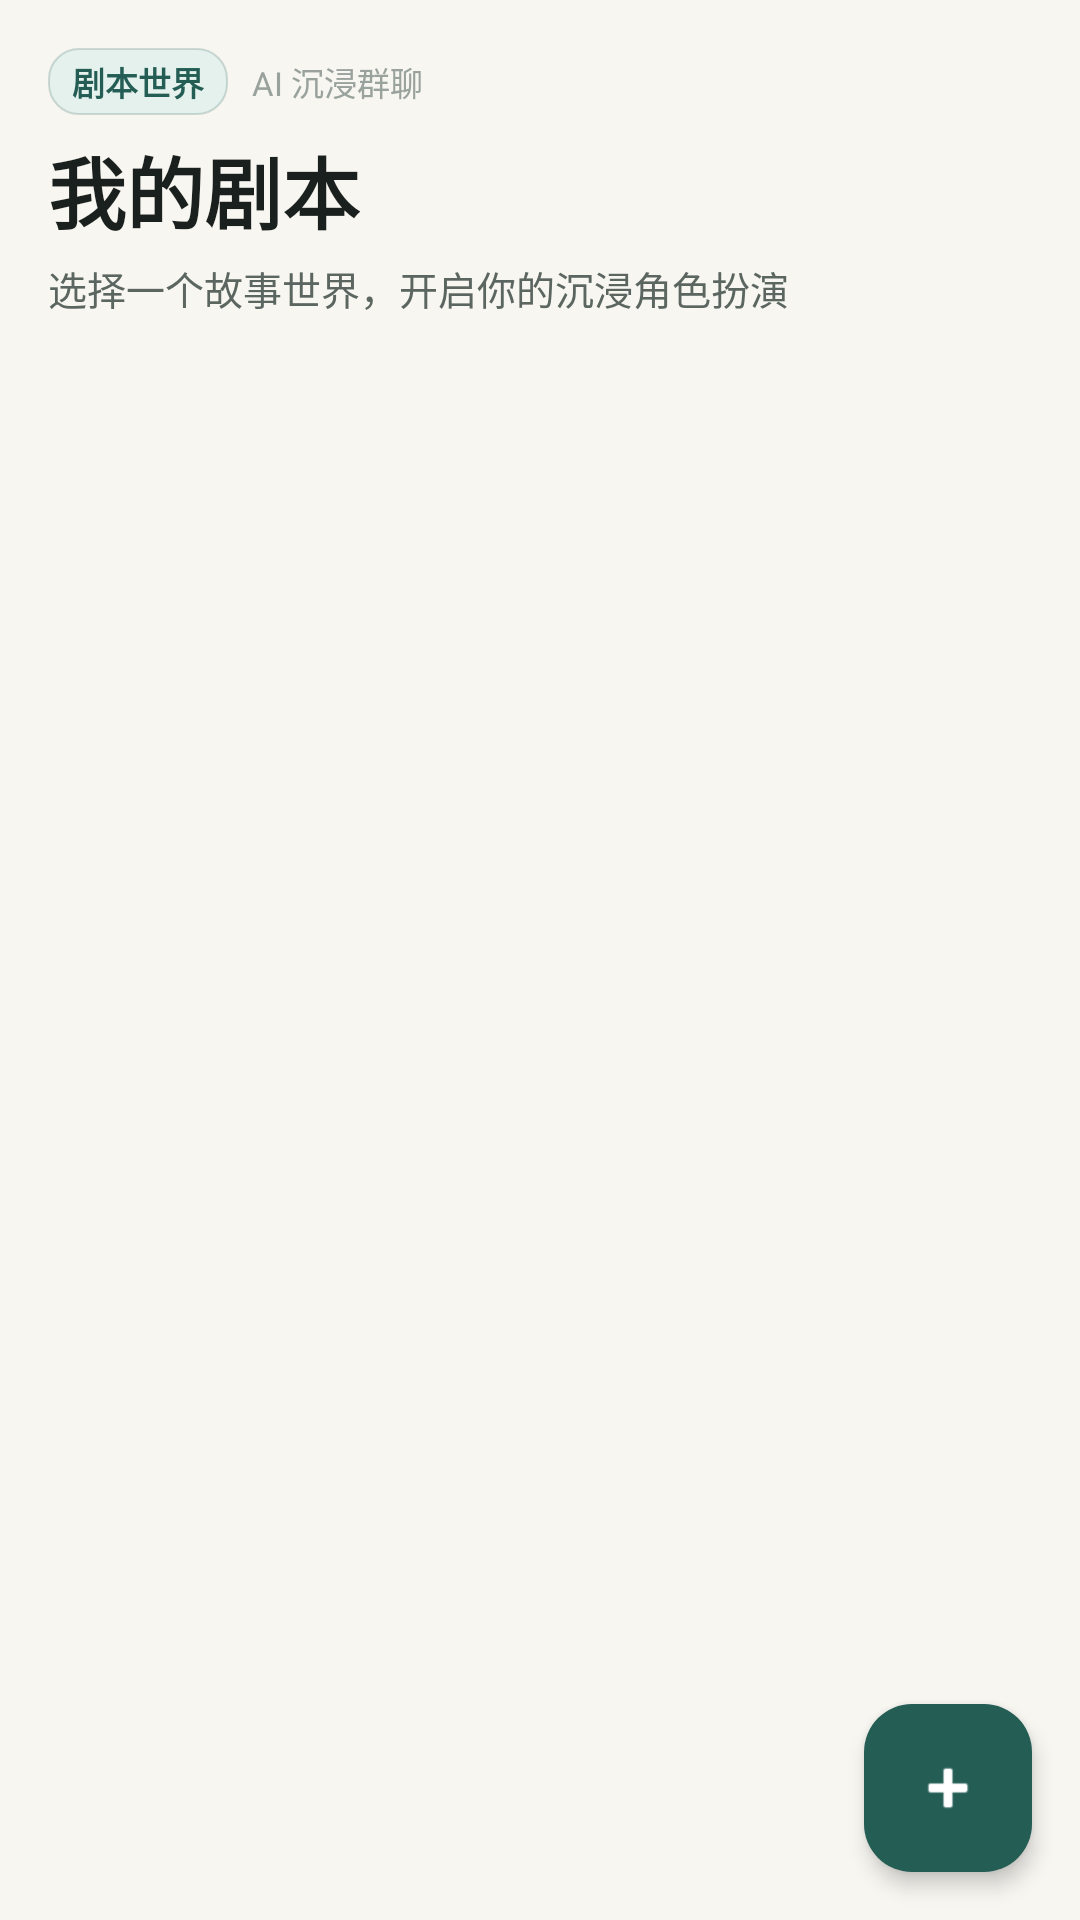

Icons on this 1080px×1920px Android screen, each with its box as (x1, y1, x2, y2):
新建剧本: (864, 1704, 1032, 1872)
